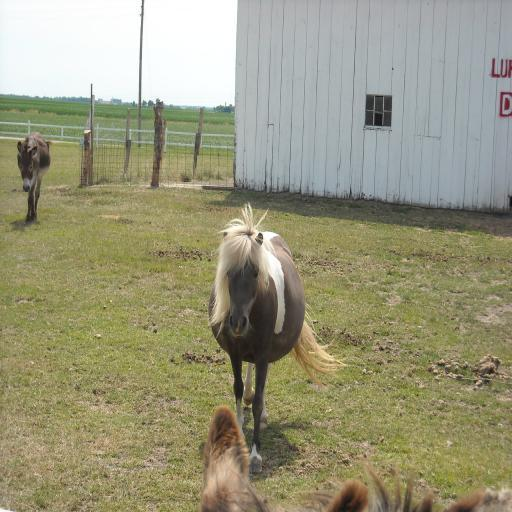horse: (206, 202, 349, 474), (198, 404, 512, 512)
